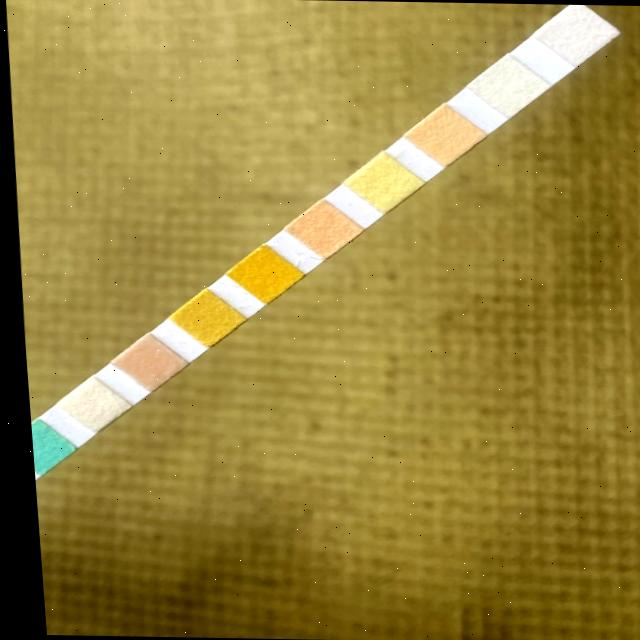Bilirubin: (65, 390, 105, 419)
Blood: (238, 258, 281, 290)
Glucose: (25, 429, 50, 461)
Ketone: (125, 347, 164, 379)
Leukocytes: (551, 16, 600, 51)
Nitrite: (484, 70, 528, 103)
Protein: (358, 168, 403, 200)
SpGravity: (181, 304, 223, 333)
Urobilinogen: (421, 120, 466, 152)
pH: (297, 215, 340, 244)
